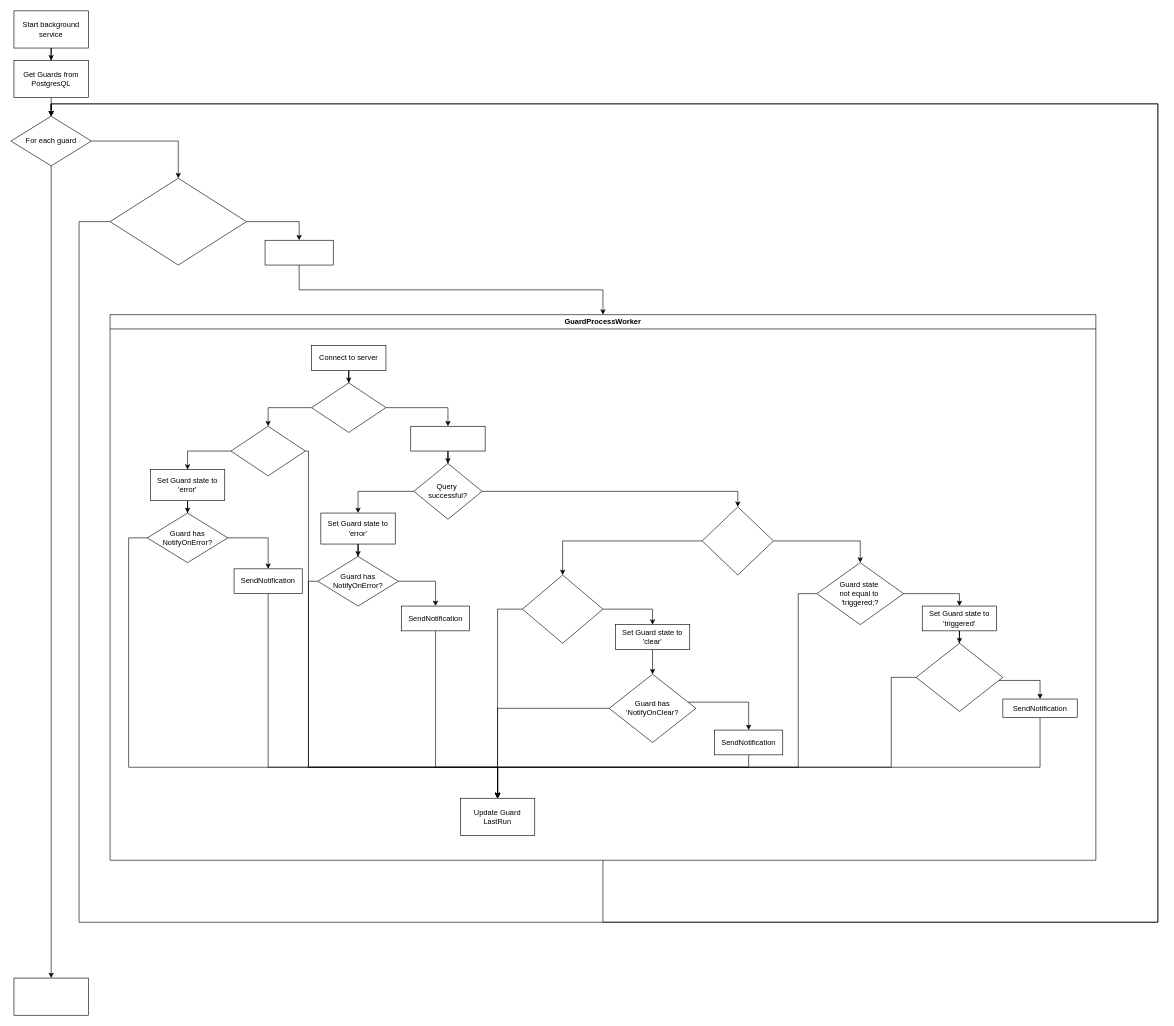
This 1174x1026 diagram has some shape labels left out. Each missing label, with the centre of its shape:
"Connection successful?" belongs at (x=348, y=407).
"Guard has 'NotifyOnTrigger'" belongs at (x=959, y=677).
"Guard LastRun timestamp <= current timestamp - RunPeriodInMinutes" belongs at (x=177, y=221).
"Guard state is 'error'?" belongs at (x=267, y=451).
"Guard state not equal to 'clear'?" belongs at (x=562, y=608).
"Idle 1 minute" belongs at (x=50, y=996).
"Place in process queue" belongs at (x=298, y=252).
"Query Database" belongs at (x=447, y=438).
"Query expression true?" belongs at (x=737, y=540).
